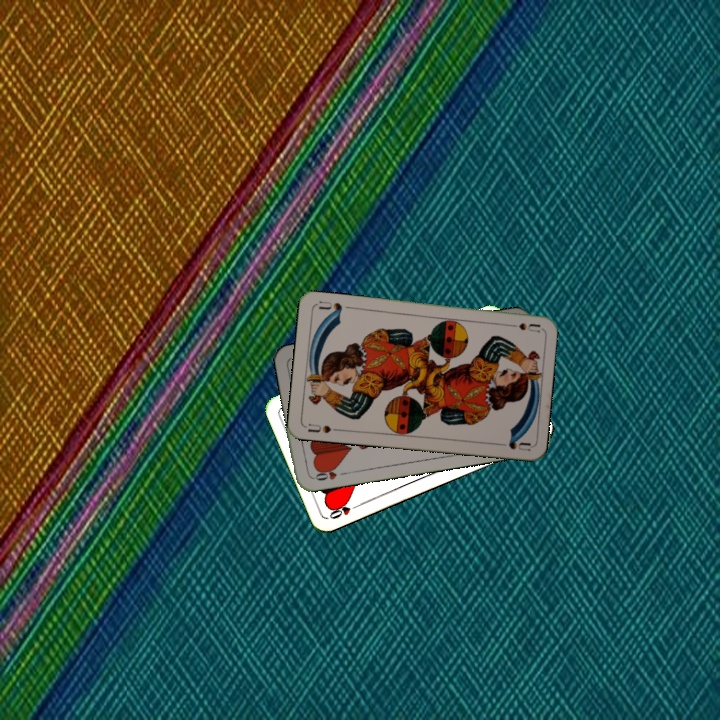HO: (325, 499, 364, 522), (308, 463, 349, 483)
SU: (302, 419, 343, 436), (501, 319, 542, 335)
